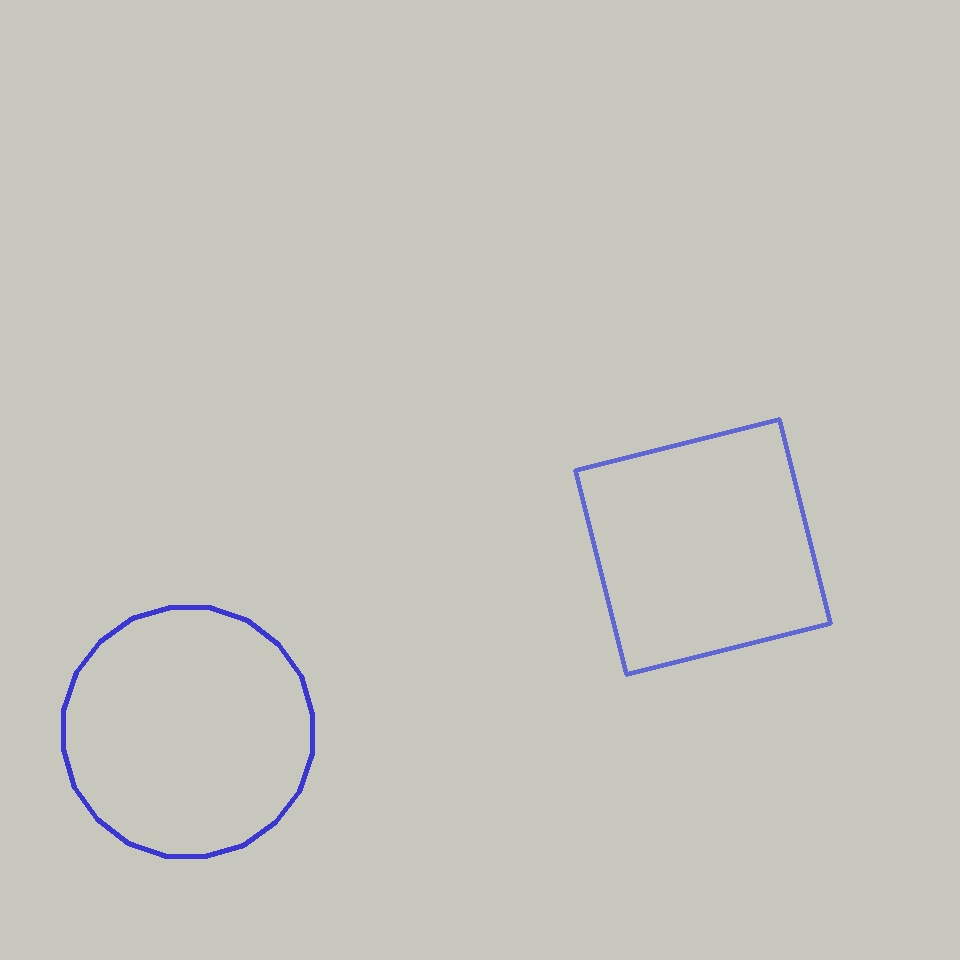square: (576, 420, 830, 674)
triangle: (63, 608, 313, 856)
